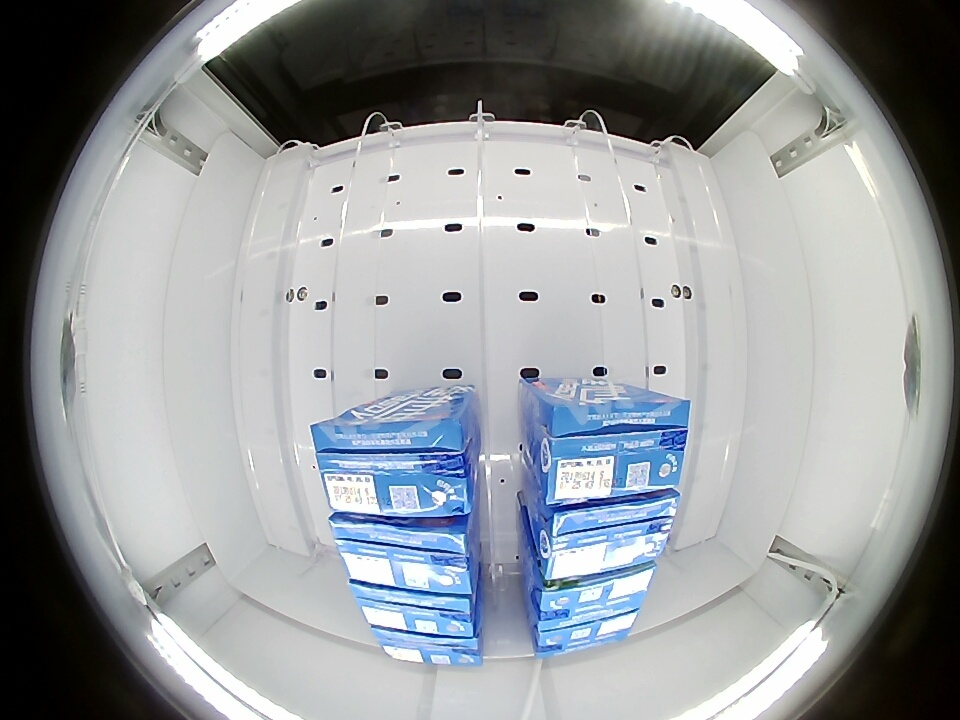niunai: (307, 417, 484, 519), (540, 395, 700, 495), (321, 517, 490, 598), (534, 578, 660, 652), (540, 509, 679, 573), (342, 580, 490, 640), (366, 626, 500, 673)
